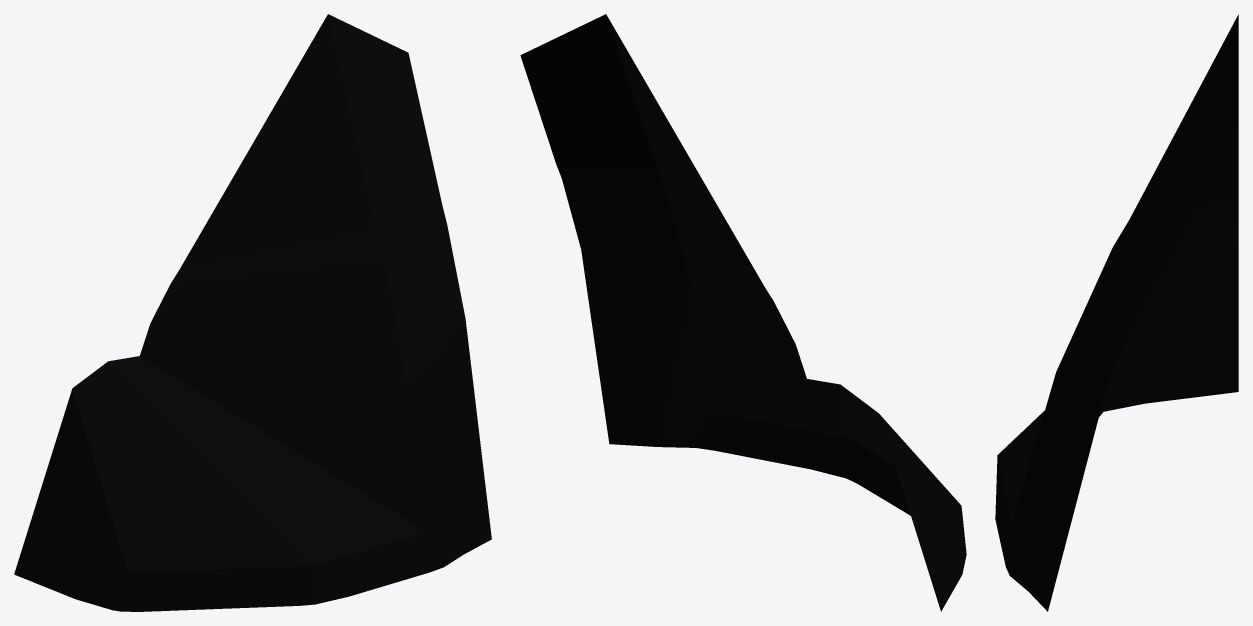
The picture shows the model from 3 angles, left to right: view 1: azimuth 30°, elevation 25°; view 2: azimuth 150°, elevation 25°; view 3: azimuth 270°, elevation 25°; orthographic projection. The views are drawn at different scales.
Bounding box in the file's own units: 1.93 × 2.26 × 0.9023.
Materials: 1 (1 with a texture image).
